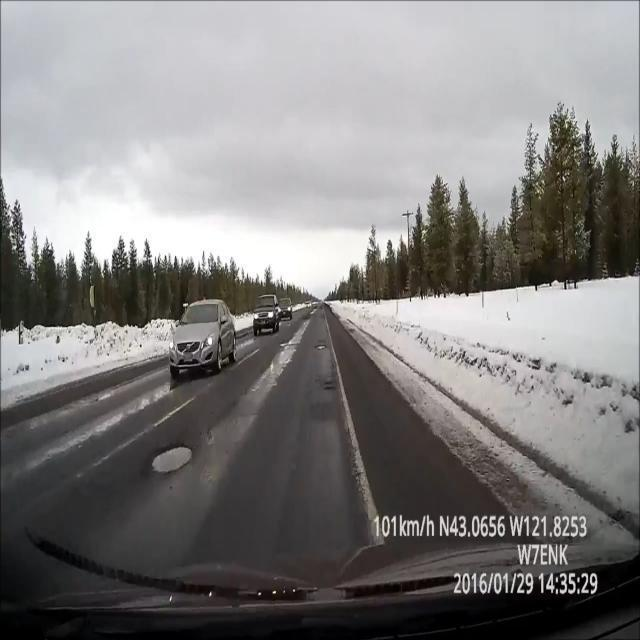pothole: (145, 439, 197, 490), (313, 333, 330, 359)
